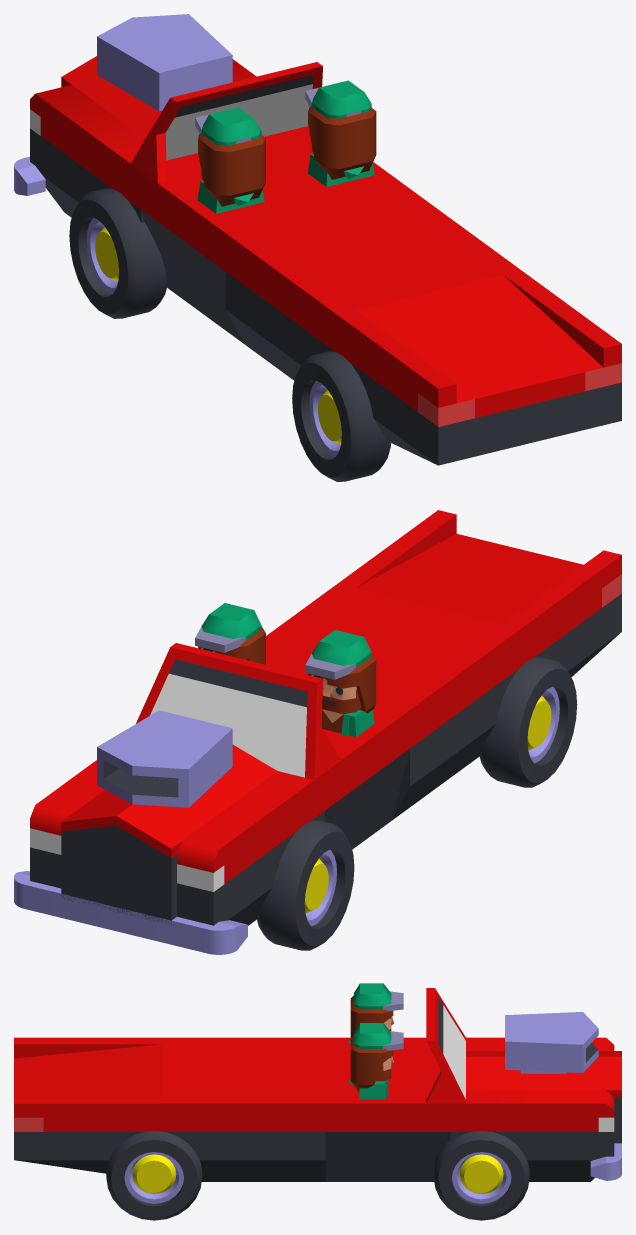
File: obstacle_convertable.glb
3 renders of one model, top to bottom at view 1: azimuth 30°, elevation 25°; view 2: azimuth 150°, elevation 25°; view 3: azimuth 270°, elevation 25°, orthographic. The views are drawn at different scales.
Visible parts, largest first — view 1: mergedBlocks(Clone); view 2: mergedBlocks(Clone); view 3: mergedBlocks(Clone).
Part boxes in pixels (box(x1,y1,x2,y2)): mergedBlocks(Clone): box(14, 14, 621, 481); mergedBlocks(Clone): box(14, 510, 621, 954); mergedBlocks(Clone): box(14, 983, 621, 1220).
Bounding box in the file's own units: 1.22 × 1.25 × 3.9.
